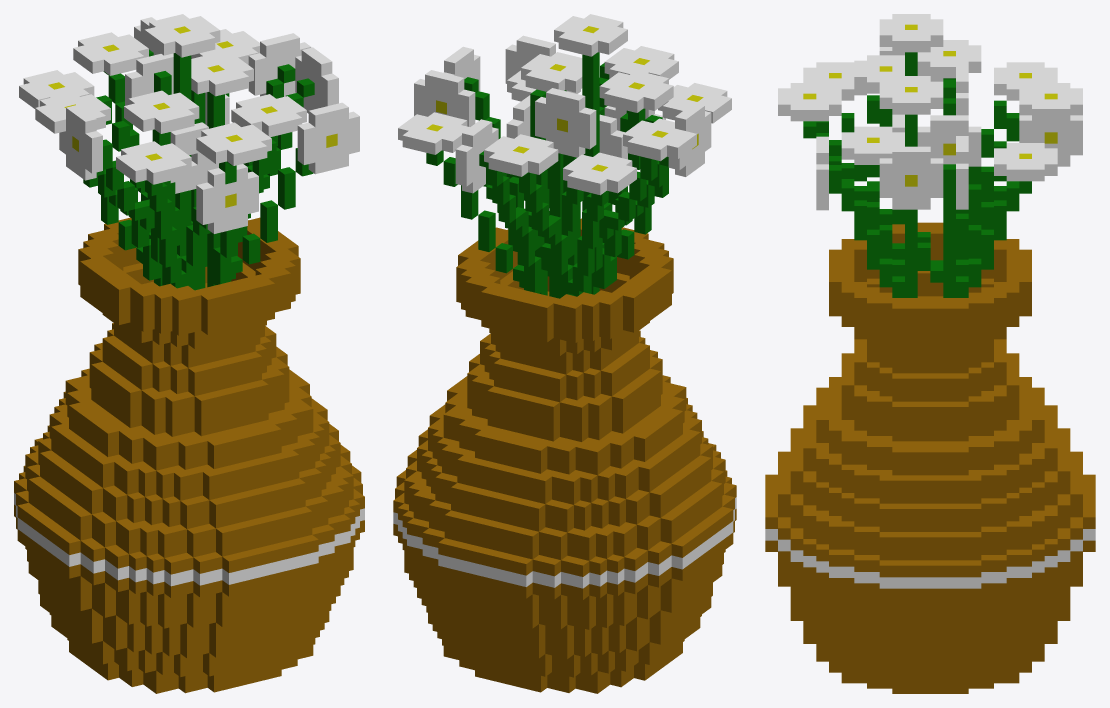
File: Flower Pot-0.obj
The picture shows the model from 3 angles, left to right: view 1: azimuth 30°, elevation 25°; view 2: azimuth 150°, elevation 25°; view 3: azimuth 270°, elevation 25°; orthographic projection. The views are drawn at different scales.
Visible parts, largest first — view 1: Flower Pot-0; view 2: Flower Pot-0; view 3: Flower Pot-0.
Part boxes in pixels (left/top/right/bottom): Flower Pot-0: left=14, top=14, right=364, bottom=693; Flower Pot-0: left=393, top=14, right=736, bottom=693; Flower Pot-0: left=765, top=14, right=1095, bottom=693.
Size of the model in its own units: 26 by 53 by 26.
